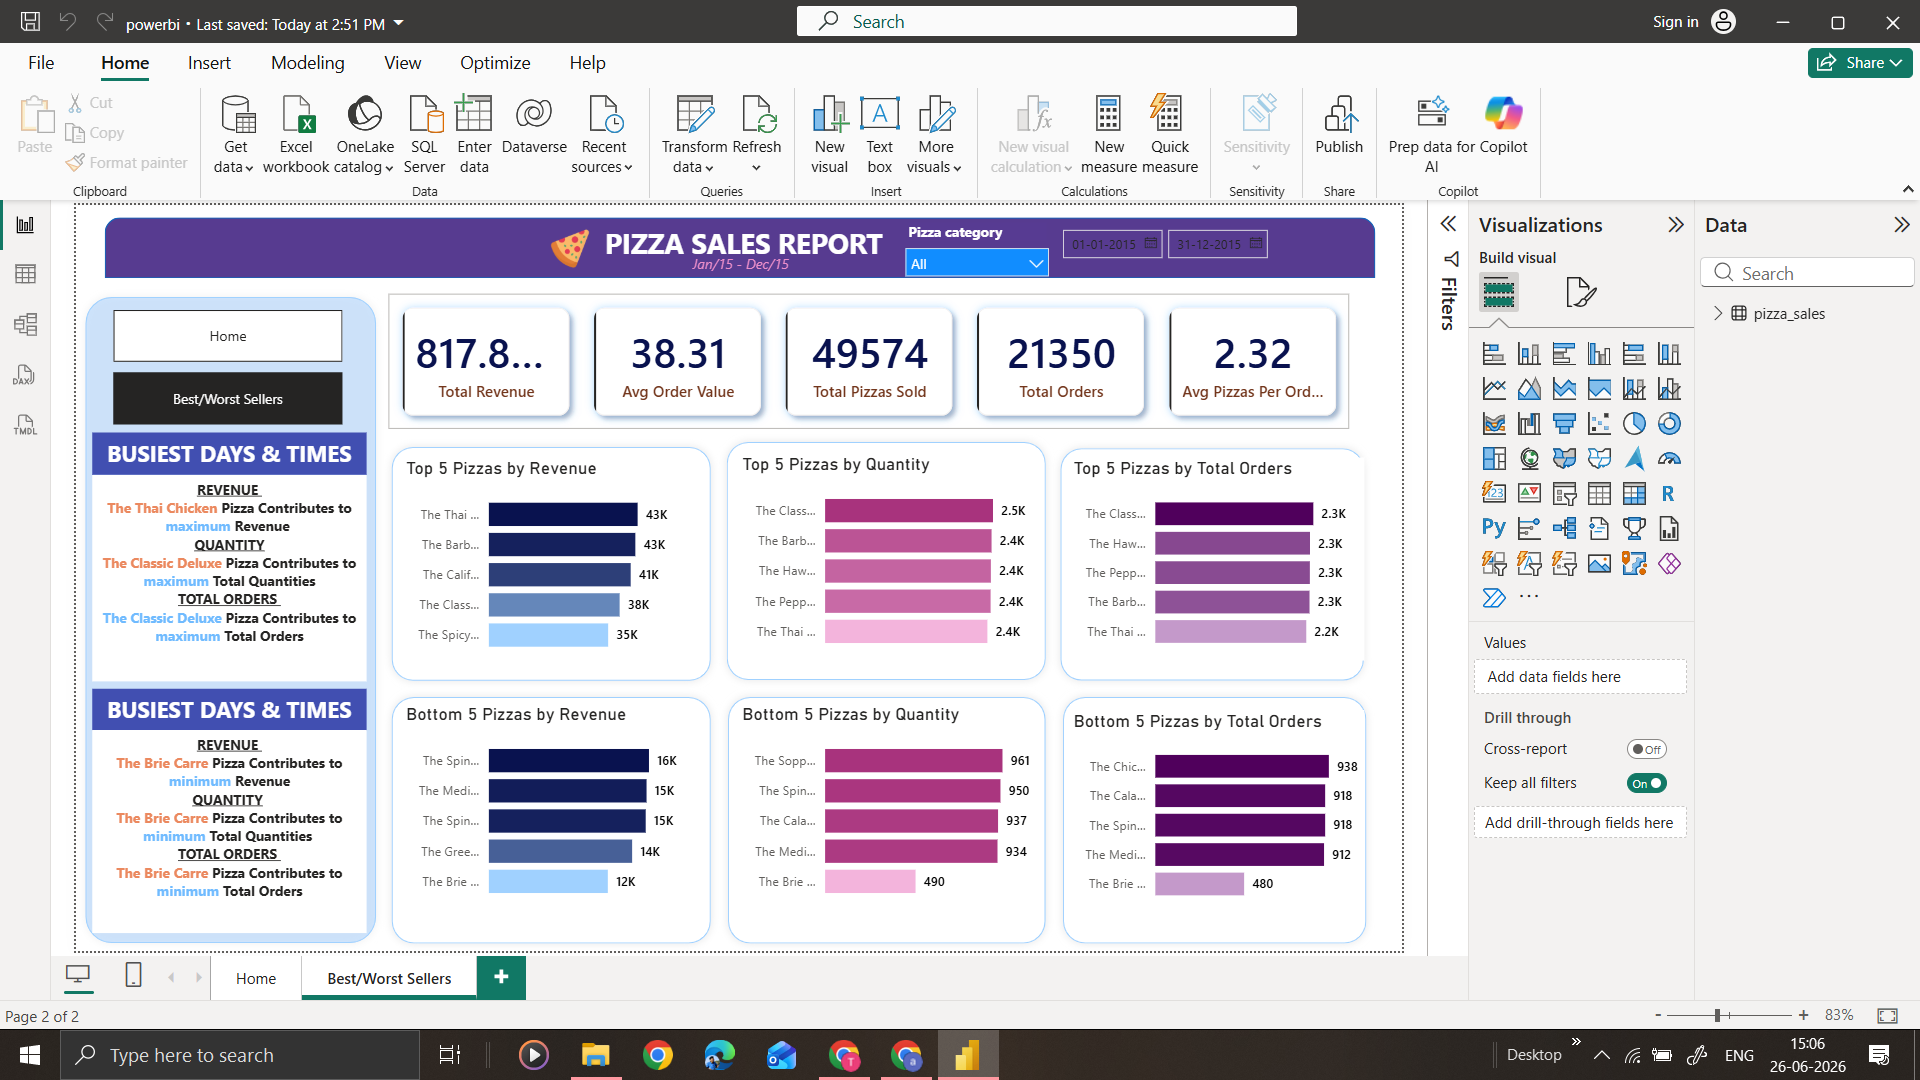

This screenshot's page, from the dashboard's own definition file:
{"tool":"powerbi","page":{"name":"Best/Worst Sellers","canvas":[1280,720],"ordinal":1},"visuals":[{"type":"cardVisual","fields":{"Data":["pizza_sales.Total Revenue","pizza_sales.Avg Order Value","pizza_sales.Total Pizzas Sold","pizza_sales.Total Orders","pizza_sales.Avg Pizzas Per Order"]},"box":[297.1,81.4,941.4,140],"z":0},{"type":"shape","box":[27.5,12.5,1226.2,58.8],"z":1000},{"type":"textbox","box":[504.9,12.7,280.3,58.5],"z":2000},{"type":"textbox","box":[26.5,334.2,1225.7,149.6],"z":3000},{"type":"textbox","box":[590,42.5,107.5,30],"z":4000},{"type":"shape","box":[296.4,225,323.8,241.5],"z":5000},{"type":"shape","box":[1.4,81,296.4,639.5],"z":6000},{"type":"image","box":[448.8,22.5,56.2,38.8],"z":7000},{"type":"textbox","box":[15.1,219.6,264.8,41.2],"z":8000},{"type":"textbox","box":[15.1,260.7,264.8,199],"z":9000},{"type":"textbox","box":[15.1,466.6,264.8,39.8],"z":10000},{"type":"textbox","box":[15.1,506.3,264.8,196.2],"z":11000},{"type":"shape","box":[620.2,220.9,323.8,245.6],"z":12000},{"type":"shape","box":[942.7,226.4,308.7,240.1],"z":13000},{"type":"shape","box":[296.4,466.6,323.8,253.9],"z":14000},{"type":"shape","box":[621.6,466.6,322.5,253.9],"z":15000},{"type":"shape","box":[944.1,466.6,308.7,253.9],"z":16000},{"type":"barChart","title":"Top 5 Pizzas by Revenue","fields":{"Category":["pizza_sales.pizza_name"],"Y":["pizza_sales.Total Revenue"]},"box":[313.7,243.7,288.3,200.3],"z":17000},{"type":"barChart","title":"Bottom 5 Pizzas by Revenue","fields":{"Category":["pizza_sales.pizza_name"],"Y":["pizza_sales.Total Revenue"]},"box":[314.2,481.6,288.2,200.3],"z":18000},{"type":"barChart","title":"Top 5 Pizzas by Quantity","fields":{"Category":["pizza_sales.pizza_name"],"Y":["pizza_sales.Total Pizzas Sold"]},"box":[638.1,240.1,288.2,200.3],"z":19000},{"type":"barChart","title":"Bottom 5 Pizzas by Quantity","fields":{"Category":["pizza_sales.pizza_name"],"Y":["pizza_sales.Total Pizzas Sold"]},"box":[638.1,481.6,288.2,200.3],"z":20000},{"type":"barChart","title":"Top 5 Pizzas by Total Orders","fields":{"Category":["pizza_sales.pizza_name"],"Y":["pizza_sales.Total Orders"]},"box":[957.8,244.3,285.4,196.2],"z":21000},{"type":"barChart","title":"Bottom 5 Pizzas by Total Orders ","fields":{"Category":["pizza_sales.pizza_name"],"Y":["pizza_sales.Total Orders"]},"box":[957.8,487.1,285.4,196.2],"z":22000},{"type":"slicer","fields":{"Values":["pizza_sales.pizza_category"]},"box":[790.4,12.3,159.2,59],"z":22001},{"type":"slicer","fields":{"Values":["pizza_sales.order_date"]},"box":[940,12.5,248.8,58.8],"z":22002},{"type":"pageNavigator","box":[36.2,161.2,221.2,50],"z":22003},{"type":"pageNavigator","box":[36.2,101.2,221.2,50],"z":22004}]}

Visuals, with their boxes on the page's 1280x720 design canvas (x1, y1, x2, y2). These are canvas units, not pixel positions in the 1920x1080 screenshot, which may show the page scaled, cropped or inside an application window:
cardVisual - pizza_sales.Total Revenue x pizza_sales.Avg Order Value: (297,81,1238,221)
shape: (28,12,1254,71)
textbox: (505,13,785,71)
textbox: (26,334,1252,484)
textbox: (590,42,698,72)
shape: (296,225,620,466)
shape: (1,81,298,720)
image: (449,22,505,61)
textbox: (15,220,280,261)
textbox: (15,261,280,460)
textbox: (15,467,280,506)
textbox: (15,506,280,702)
shape: (620,221,944,466)
shape: (943,226,1251,466)
shape: (296,467,620,720)
shape: (622,467,944,720)
shape: (944,467,1253,720)
"Top 5 Pizzas by Revenue" barChart: (314,244,602,444)
"Bottom 5 Pizzas by Revenue" barChart: (314,482,602,682)
"Top 5 Pizzas by Quantity" barChart: (638,240,926,440)
"Bottom 5 Pizzas by Quantity" barChart: (638,482,926,682)
"Top 5 Pizzas by Total Orders" barChart: (958,244,1243,440)
"Bottom 5 Pizzas by Total Orders " barChart: (958,487,1243,683)
slicer - pizza_sales.pizza_category: (790,12,950,71)
slicer - pizza_sales.order_date: (940,12,1189,71)
pageNavigator: (36,161,257,211)
pageNavigator: (36,101,257,151)
